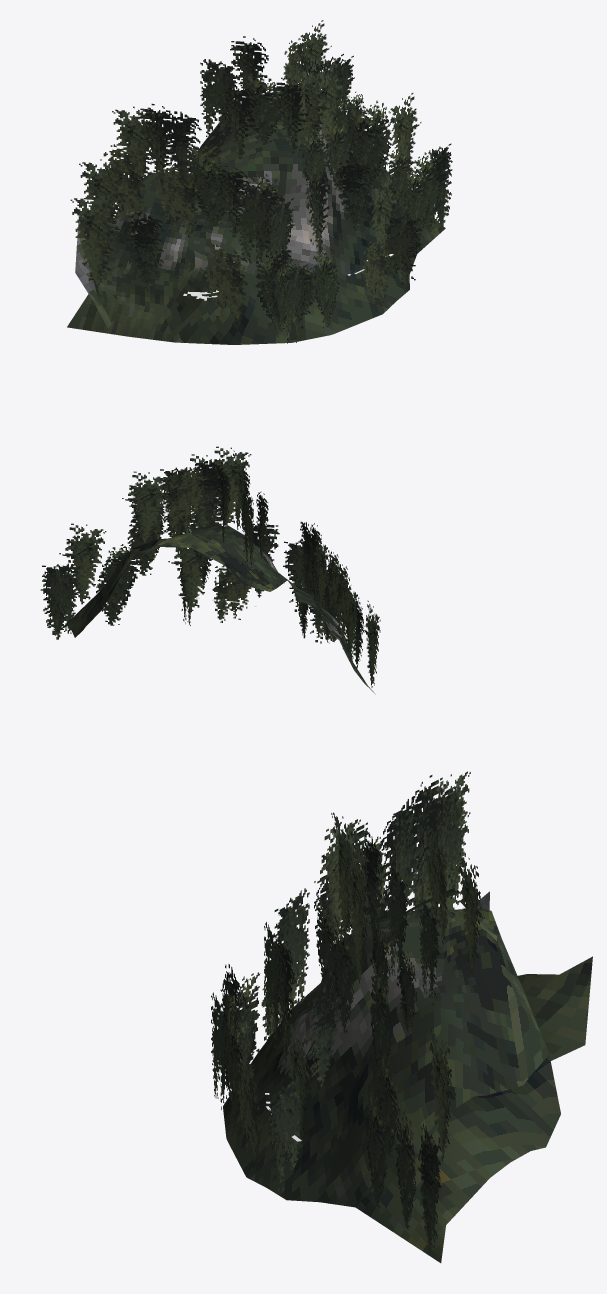
Rendered from world_camden_17_-14.gltf.
3 renders of one model, top to bottom at view 1: azimuth 30°, elevation 25°; view 2: azimuth 150°, elevation 25°; view 3: azimuth 270°, elevation 25°, orthographic. The views are drawn at different scales.
Size of the model in its own units: 165 by 71.93 by 107.
3 materials, 3 textured.
